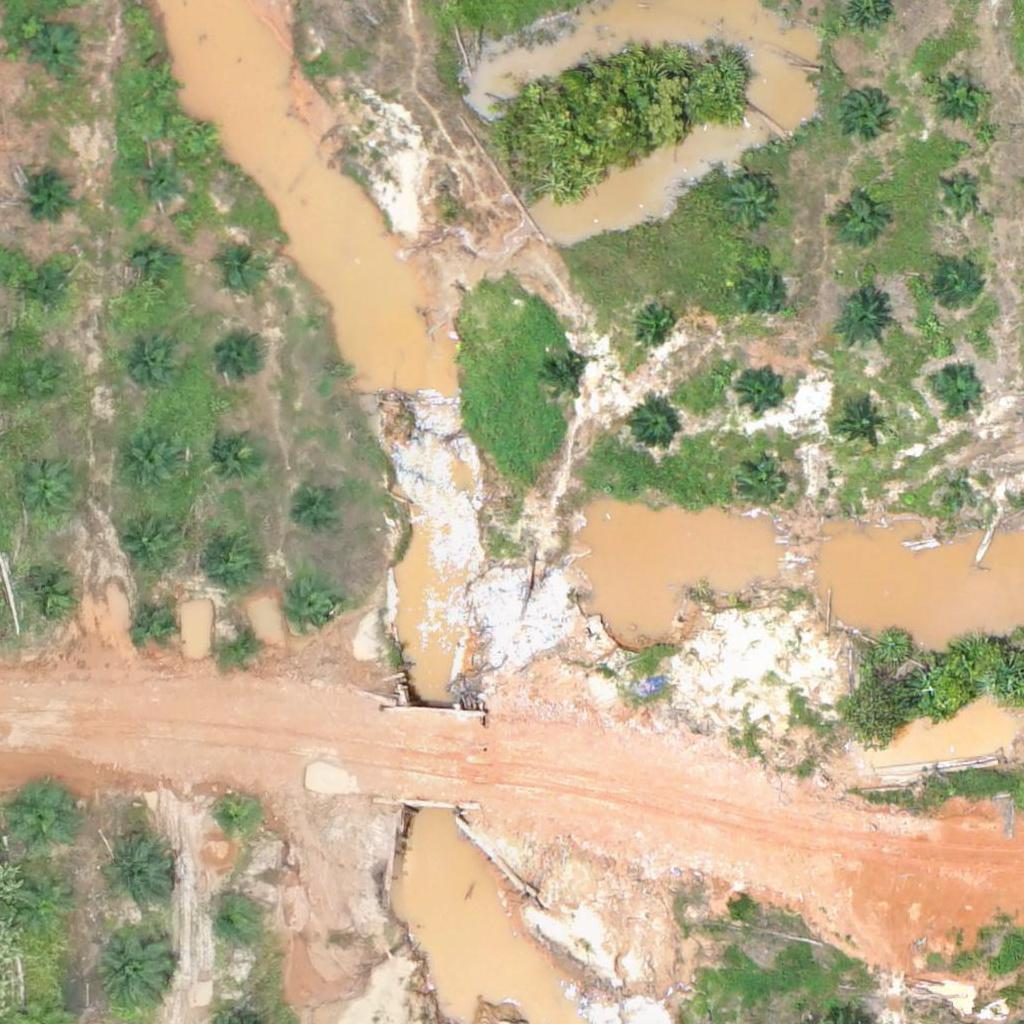Kelapa_Sawit: (99, 832, 174, 908), (99, 929, 174, 1005), (3, 359, 66, 422), (118, 335, 181, 398), (116, 432, 179, 495), (12, 782, 75, 845), (203, 528, 266, 591), (117, 513, 180, 576), (832, 291, 895, 354), (18, 878, 80, 941), (13, 465, 75, 528), (18, 563, 80, 626), (203, 423, 265, 486), (927, 62, 989, 125), (130, 598, 180, 649), (216, 619, 266, 670), (930, 358, 980, 409), (934, 259, 984, 310), (832, 196, 882, 247), (726, 181, 776, 232), (737, 264, 787, 315), (737, 362, 787, 413), (837, 401, 887, 452), (219, 334, 269, 384), (26, 165, 76, 215), (133, 160, 183, 210), (32, 29, 82, 79), (129, 245, 179, 295), (215, 244, 265, 294), (837, 86, 887, 136), (628, 402, 678, 452), (287, 585, 337, 635), (297, 480, 347, 530), (209, 793, 259, 843), (205, 900, 255, 950), (739, 463, 789, 513), (631, 298, 681, 348), (540, 354, 590, 404), (23, 269, 73, 319), (141, 67, 179, 105), (940, 175, 977, 213), (956, 478, 981, 503)
